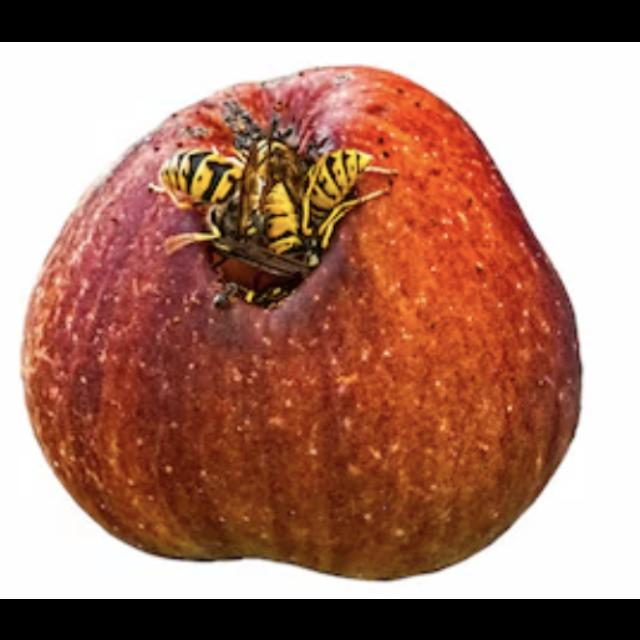Apel Tidak Segar: (20, 69, 582, 586)
